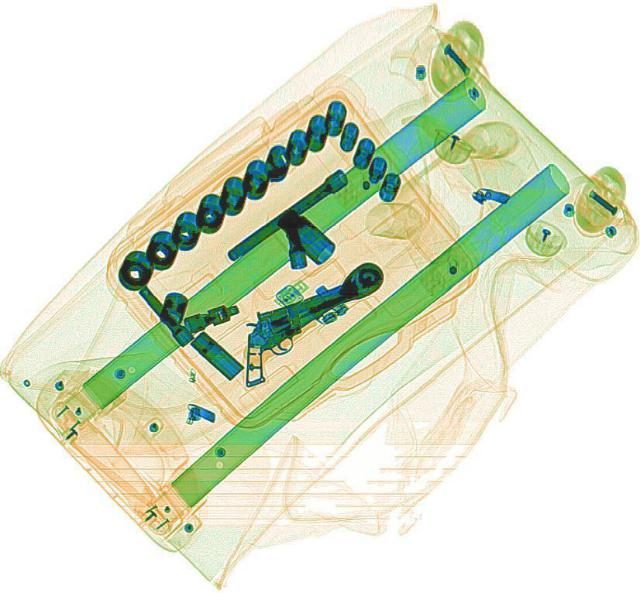Gun: (218, 274, 400, 387)
